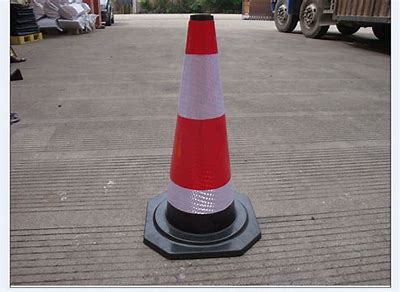traffic_cone: (122, 11, 274, 267)
